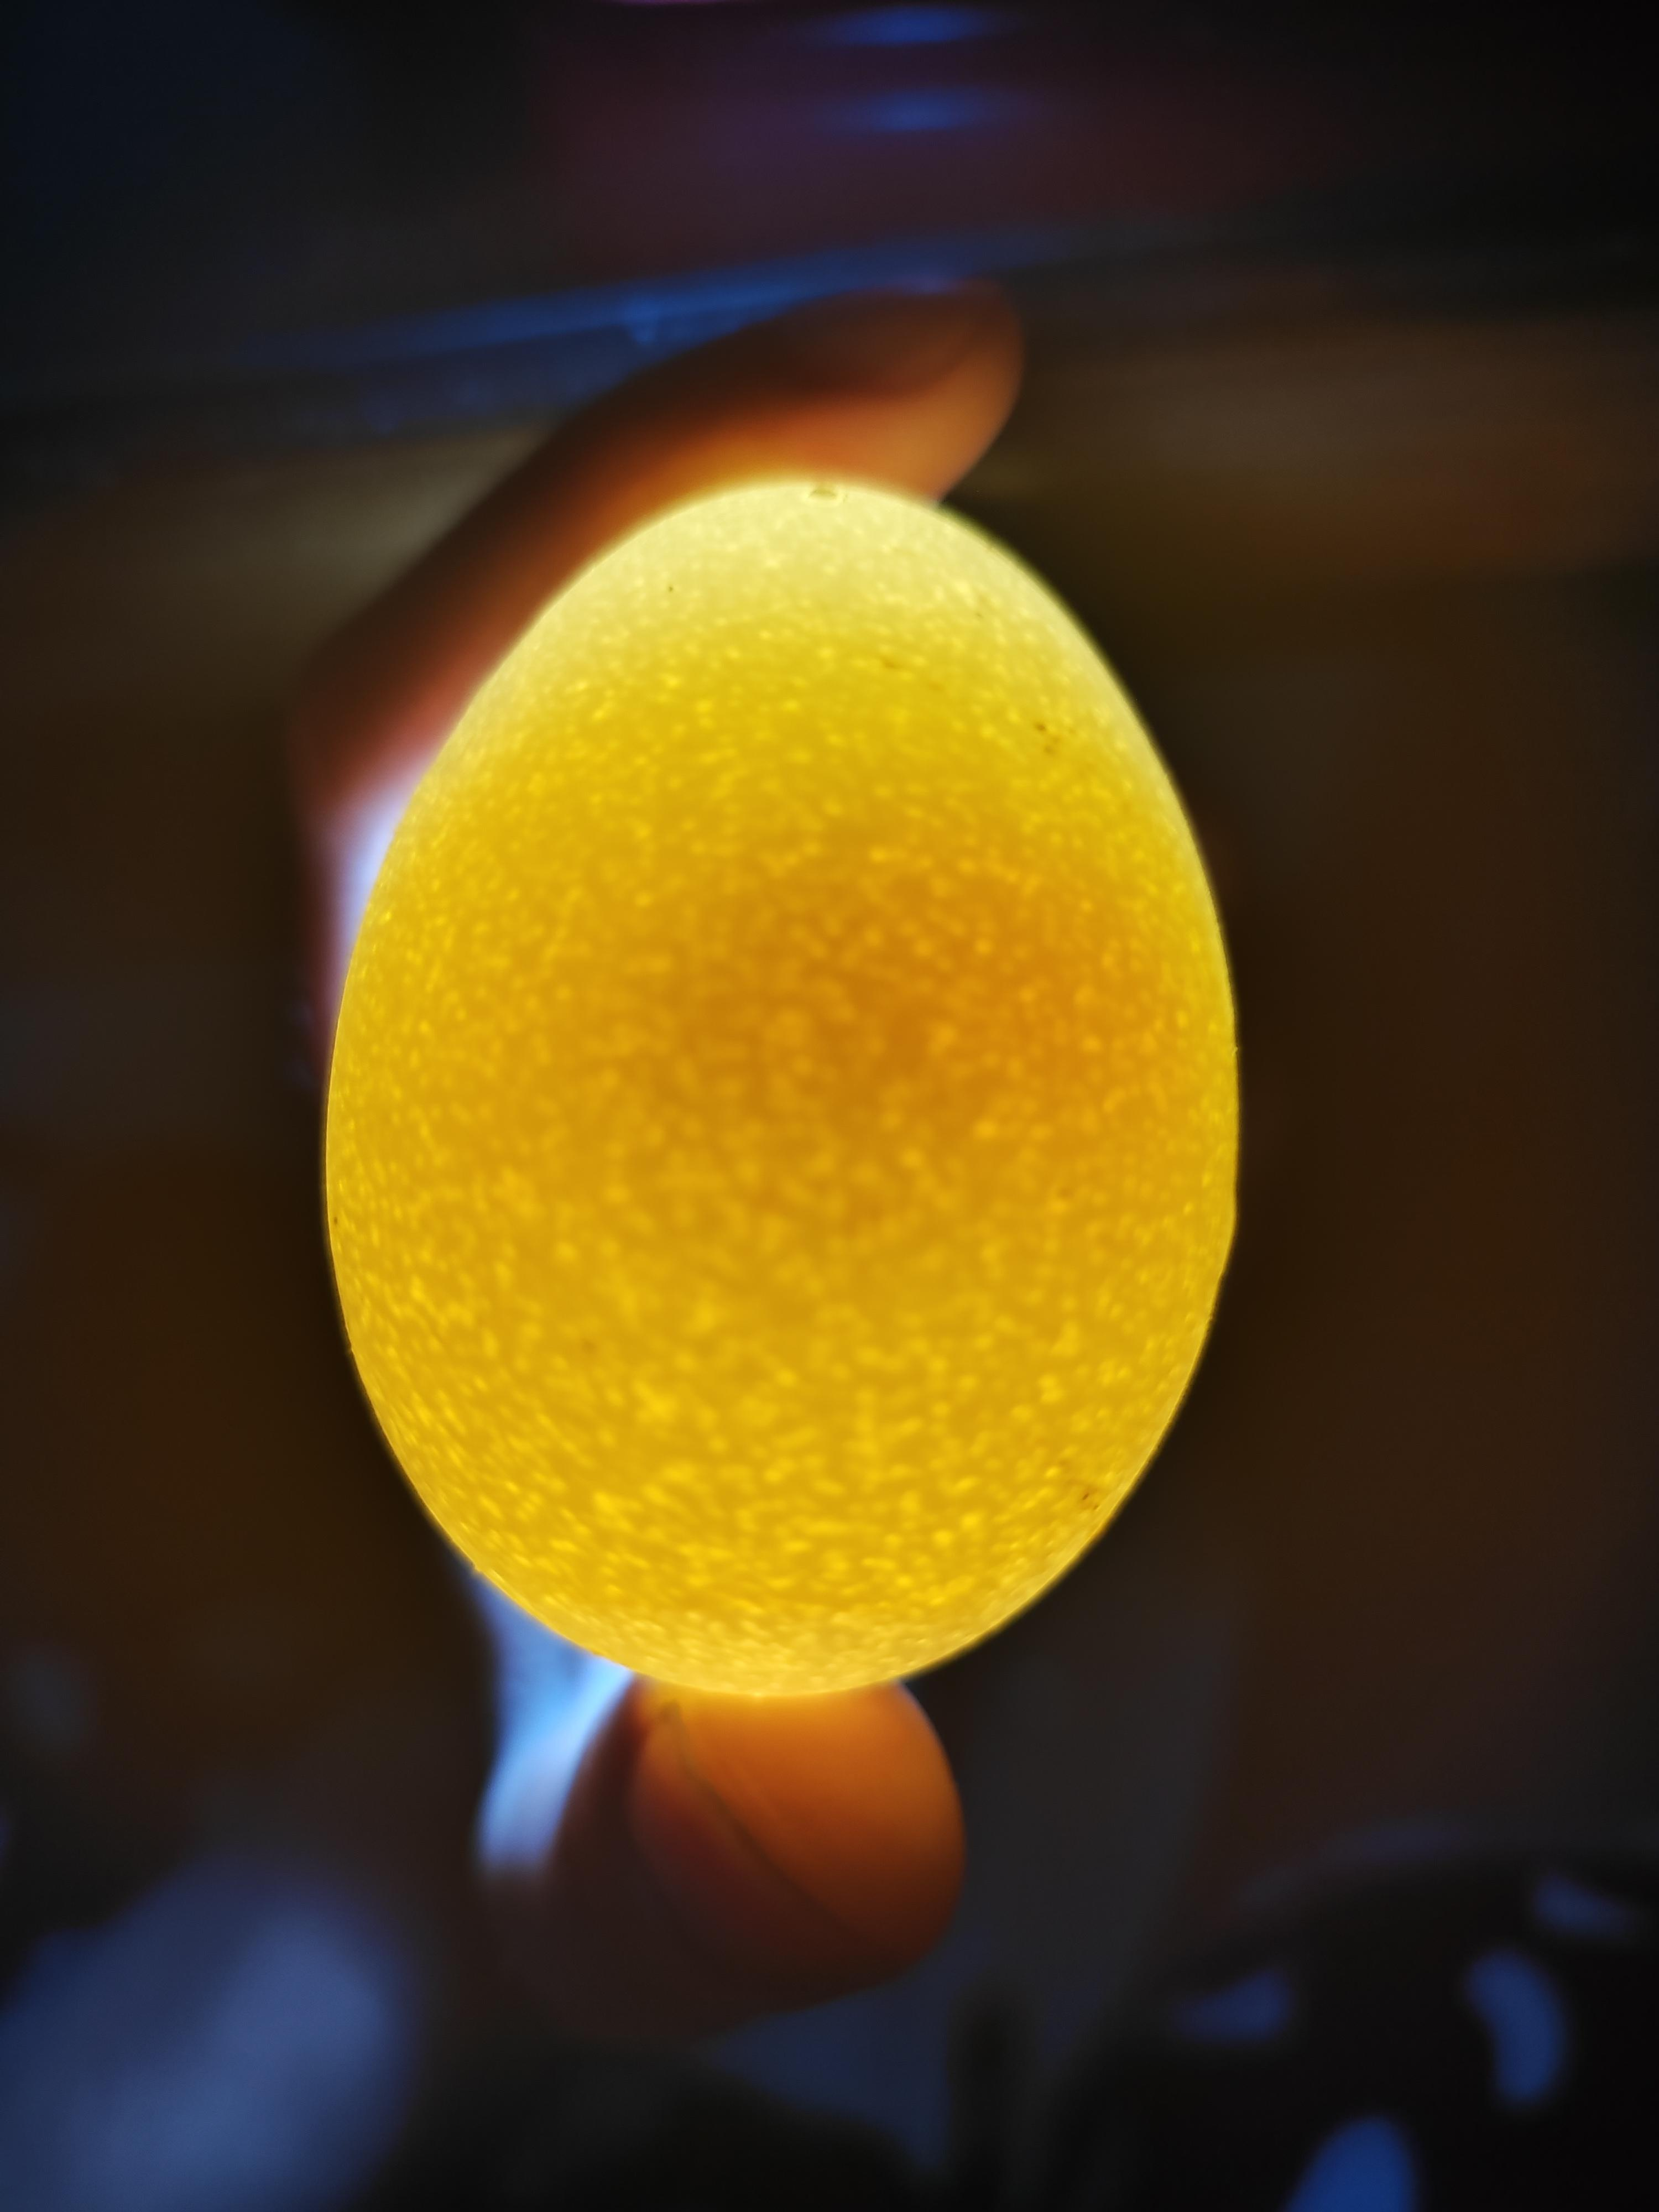AA - Premium: (324, 465, 1249, 1709)
